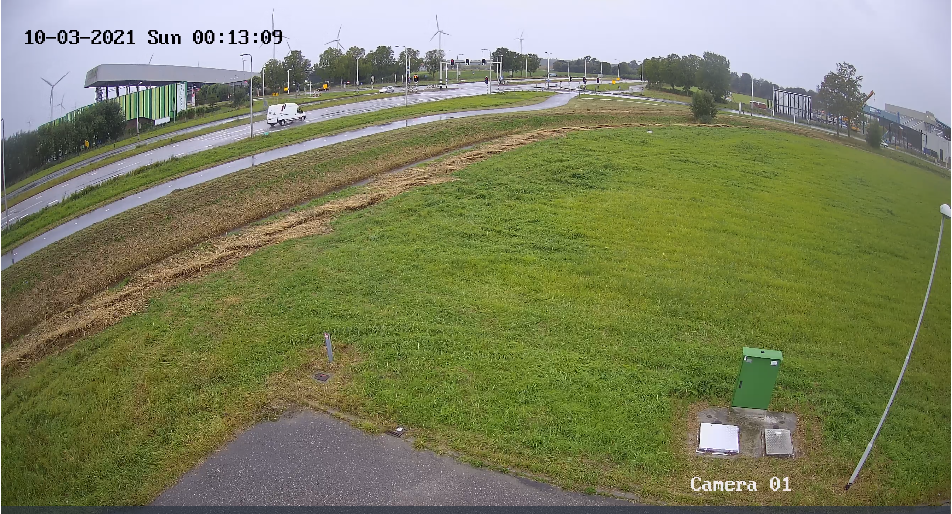werkbus: (263, 100, 312, 128)
